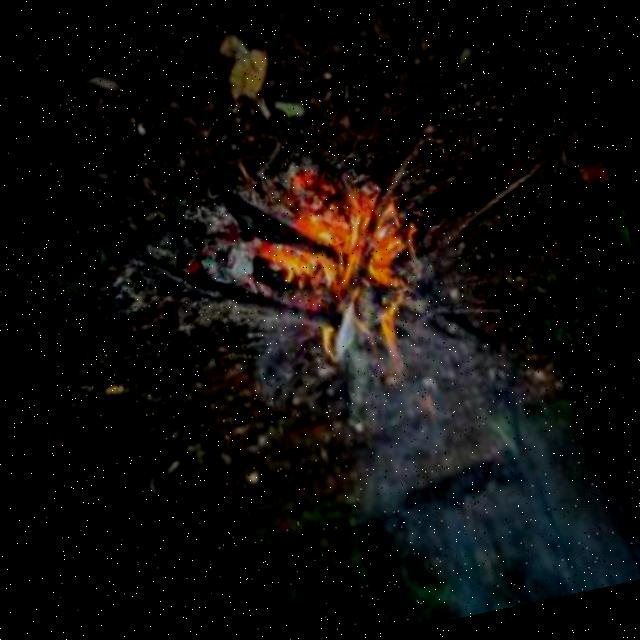fire: (252, 147, 441, 376)
